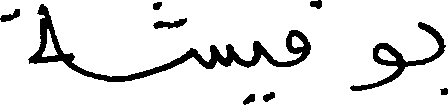ب: (416, 19, 446, 95)
ة: (0, 2, 65, 66)
ش: (150, 0, 235, 76)
ف: (283, 0, 323, 67)
و: (350, 40, 405, 90)
ي: (242, 38, 275, 103)
